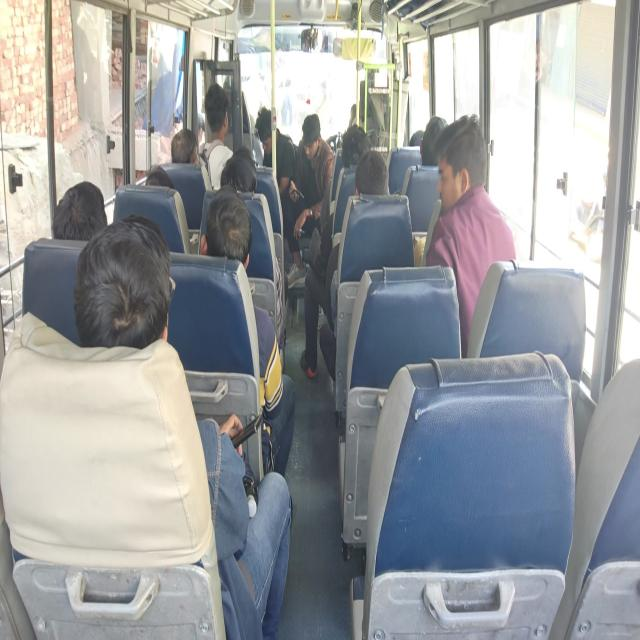person: (78, 217, 150, 322), (48, 180, 115, 244), (210, 190, 256, 266), (162, 134, 218, 192), (206, 85, 250, 149), (360, 159, 411, 213), (440, 145, 475, 216), (330, 124, 370, 176), (223, 166, 267, 209), (140, 161, 177, 206), (258, 114, 294, 160), (421, 123, 450, 175), (302, 114, 327, 156), (234, 148, 256, 173), (403, 134, 428, 156)
